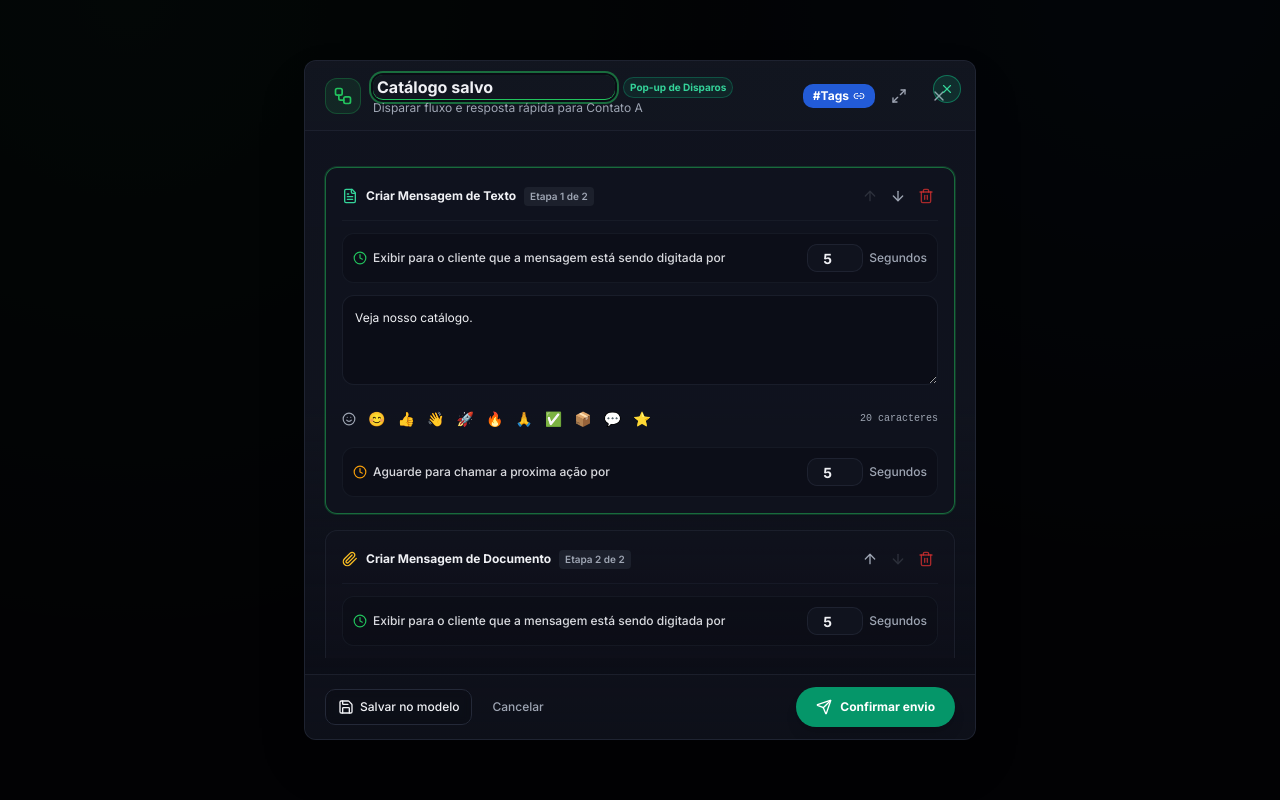
Test: Confirmação de resposta rápida › preserva a prévia ao falhar a fila
The width and height of the screenshot is (1280, 800).
Click the button "Confirmar envio" at (876, 707), box [796,687,955,727]
(page scrolled)
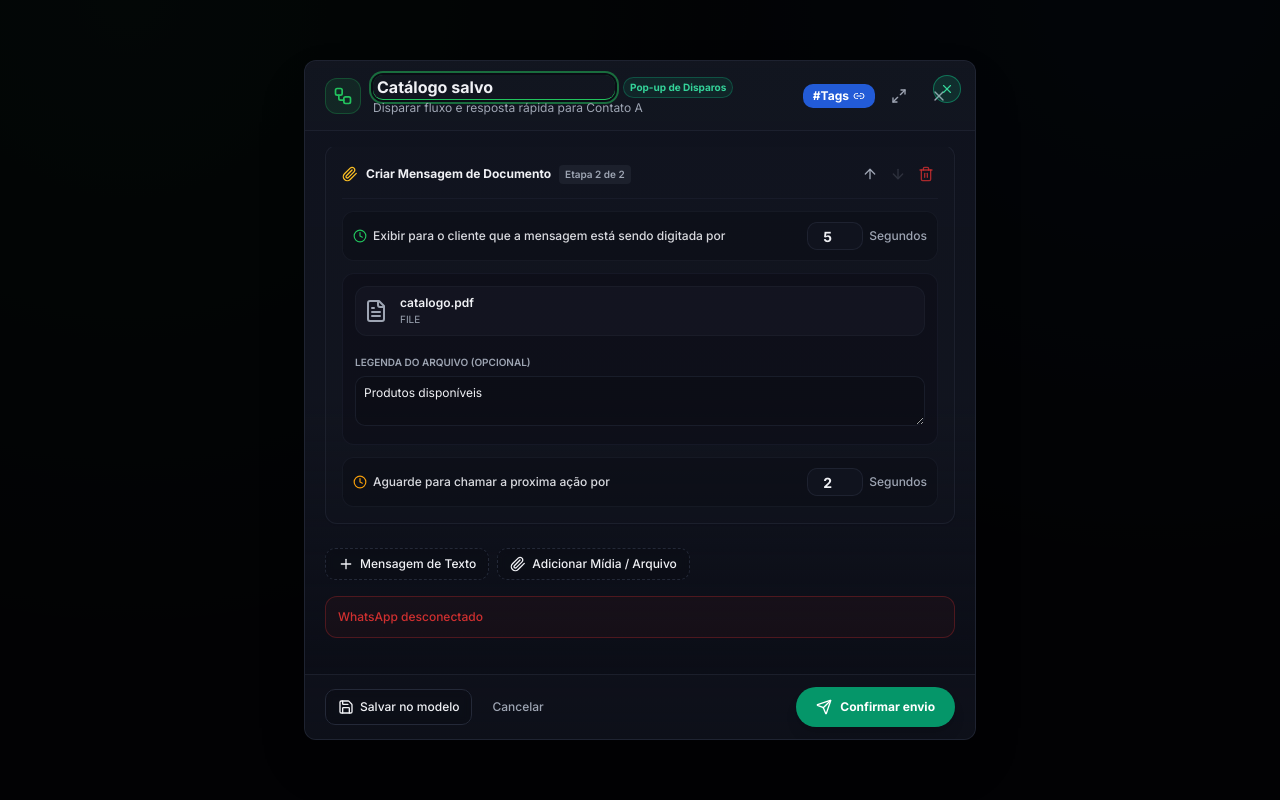
Expected: the message "WhatsApp desconectado" is shown, [325,596,955,638]
